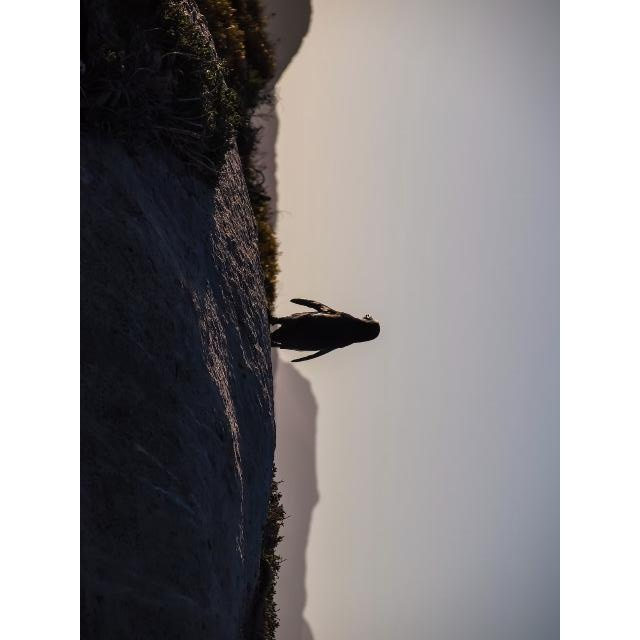penguin: (265, 298, 381, 362)
